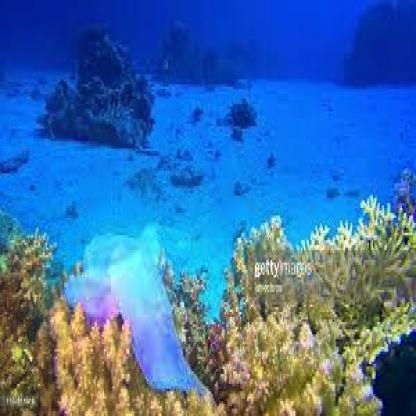pbag: (63, 220, 206, 399)
